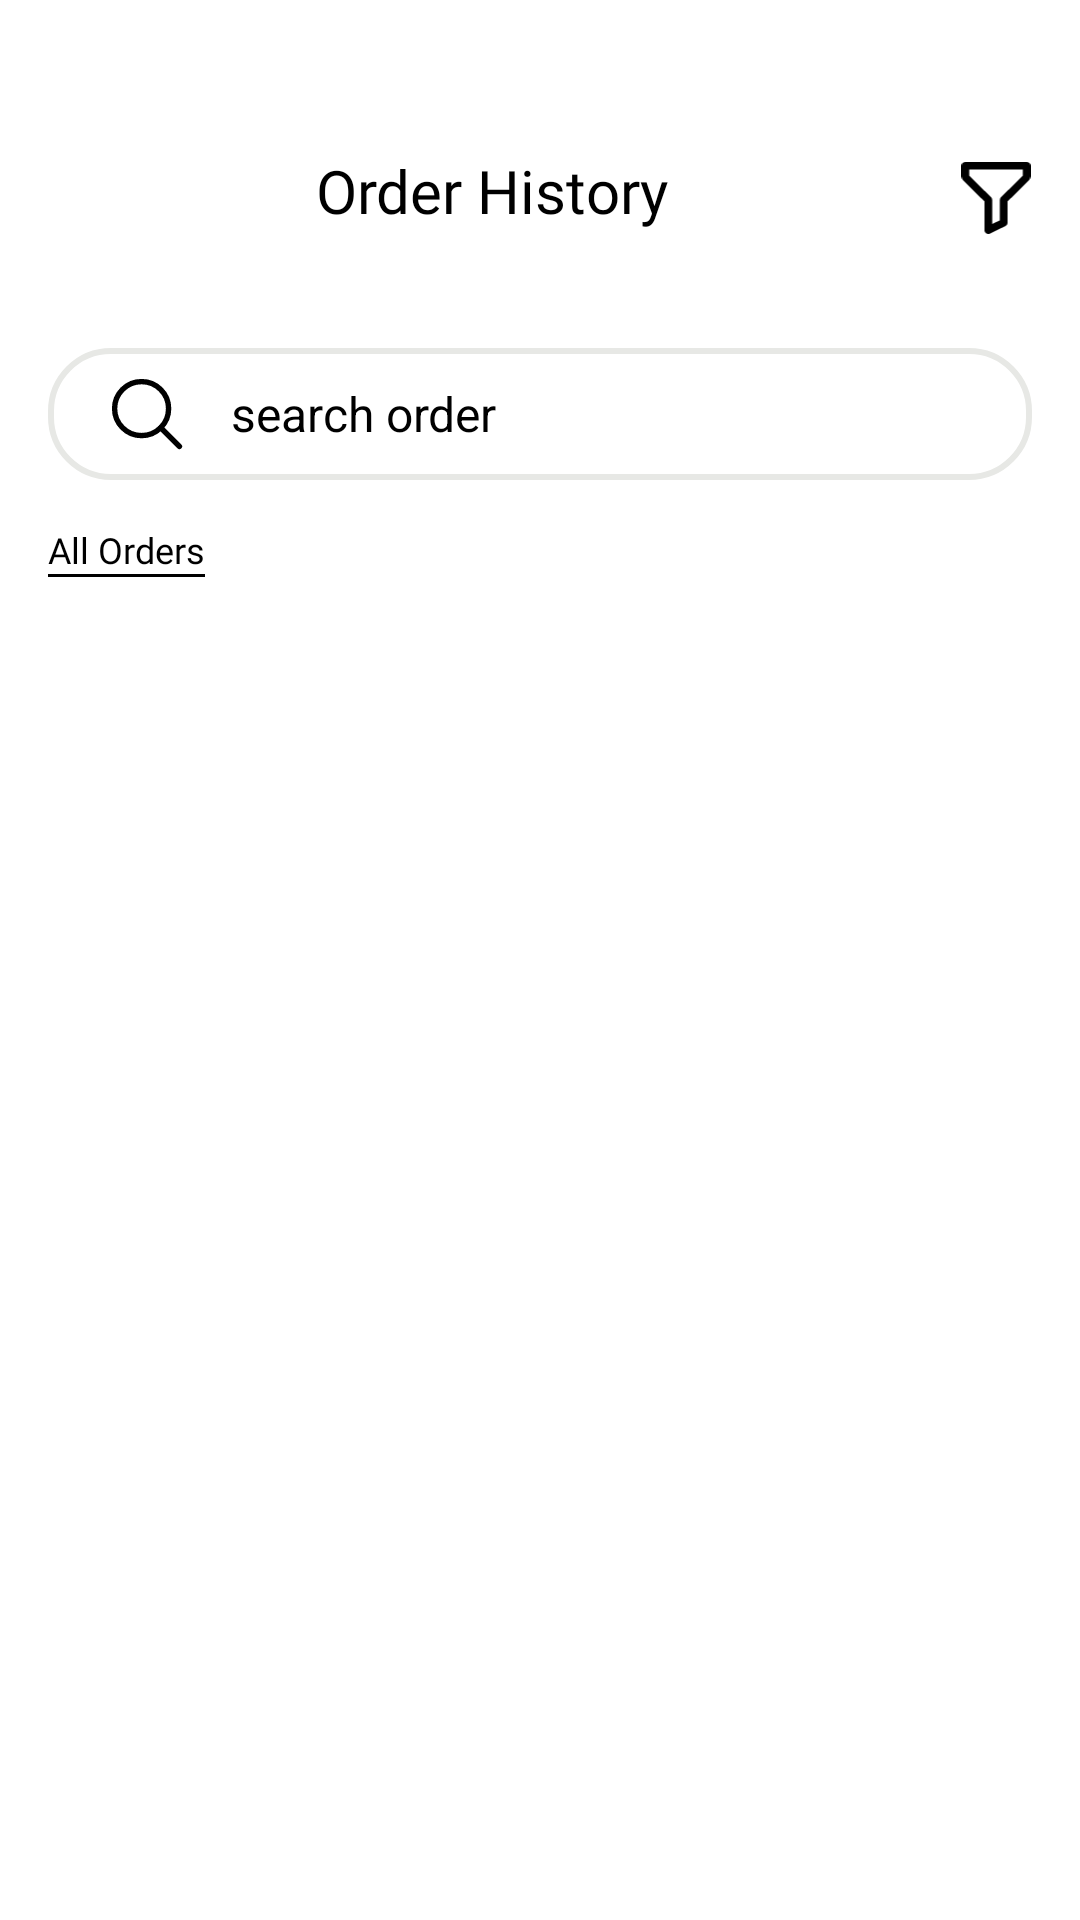

Where to tap for icons on this 1080*1920 app screen, as [x,y]:
filter: [996,198]
